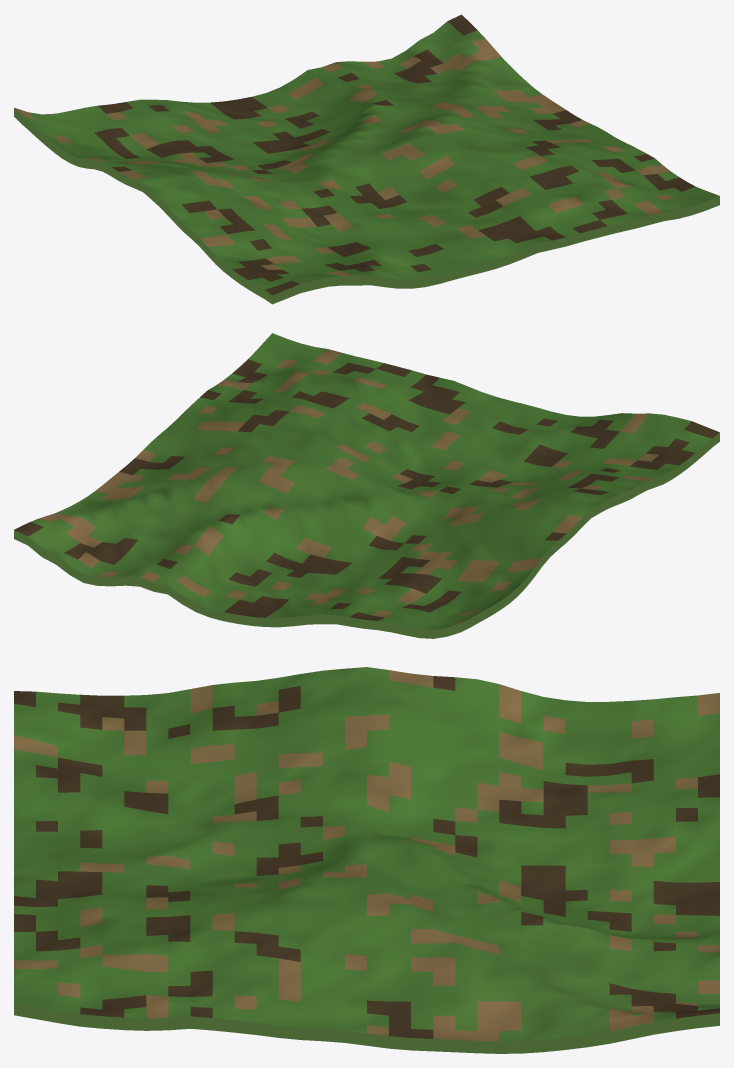
File: chunk_0_1_lod1.glb
3 views of the same model, one above another, from view 1: azimuth 30°, elevation 25°; view 2: azimuth 150°, elevation 25°; view 3: azimuth 270°, elevation 25° (orthographic). The views are drawn at different scales.
Parts seen in each view (by area): view 1: Surface_Grass, Surface_Mud, Surface_Dirt, Skirt; view 2: Surface_Grass, Surface_Mud, Surface_Dirt, Skirt; view 3: Surface_Grass, Surface_Dirt, Surface_Mud, Skirt.
Boxes of the visible parts, <box> form: Surface_Grass: <box>23,21,719,289</box>; Surface_Mud: <box>94,14,695,295</box>; Surface_Dirt: <box>14,39,675,276</box>; Skirt: <box>14,108,719,304</box>; Surface_Grass: <box>28,333,711,629</box>; Surface_Mud: <box>14,359,719,620</box>; Surface_Dirt: <box>39,349,658,626</box>; Skirt: <box>14,432,719,638</box>; Surface_Grass: <box>14,667,719,1041</box>; Surface_Dirt: <box>14,670,719,1041</box>; Surface_Mud: <box>14,676,719,1038</box>; Skirt: <box>14,1003,719,1053</box>.
Size of the model in its own units: 256 by 41.16 by 256.
